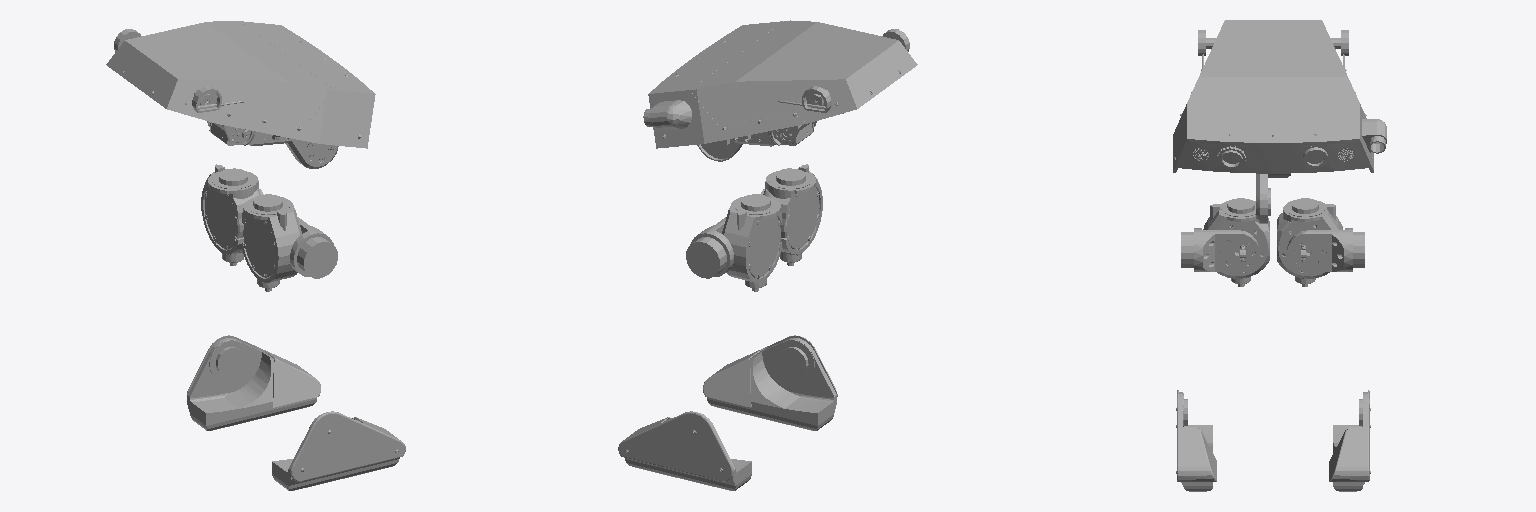
The robot description file, URDF, robot "BD-XURDFJointsFixed":
<?xml version="1.0" ?>
<!-- =================================================================================== -->
<!-- |    This document was autogenerated by xacro from [local-path]/Documents/Droids/BD-X/A1/dev/BD-XURDFJointsFixed_description/urdf/BD-XURDFJointsFixed.xacro | -->
<!-- |    EDITING THIS FILE BY HAND IS NOT RECOMMENDED                                 | -->
<!-- =================================================================================== -->
<robot xmlns:xacro="http://www.ros.org/wiki/xacro" name="BD-XURDFJointsFixed">
  <material name="silver">
    <color rgba="0.700 0.700 0.700 1"/>
  </material>

  <!-- Dummy root link without inertia -->
  <link name="base_link"/>
  <!-- Fixed joint connecting base_link to sw_bd0 -->
  <joint name="fixed_base" type="fixed">
    <parent link="base_link"/>
    <child link="body"/>
    <origin xyz="0 0 0" rpy="0 0 0"/>
  </joint>
  
  <link name="trunk">
<!--     <inertial>
      <origin xyz="0.0 0.0 0.0" rpy="0 0 0"/>
      <mass value="1e-09"/>
      <inertia ixx="0.0" iyy="0.0" izz="0.0" ixy="0.0" iyz="0.0" ixz="0.0"/>
    </inertial>
 -->  </link>
  <link name="body">
    <inertial>
      <origin xyz="0.0 0.0 0.0" rpy="0 0 0"/>
      <mass value="3.674"/> <!-- battery 1.15 -->
      <inertia ixx="0.099778" iyy="0.210394" izz="0.171149" ixy="-0.000272" iyz="-0.000084" ixz="0.009219"/>
    </inertial>
    <visual>
      <origin xyz="0 0 0" rpy="0 0 0"/>
      <geometry>
        <mesh filename="package://bdx_description/meshes/body.stl" scale="0.001 0.001 0.001"/>
      </geometry>
      <material name="silver"/>
    </visual>
    <collision>
      <origin xyz="0 0 0" rpy="0 0 0"/>
      <geometry>
        <mesh filename="package://bdx_description/meshes/body.stl" scale="0.001 0.001 0.001"/>
      </geometry>
    </collision>
  </link>
  <link name="left_foot_cuboid">
    <inertial>
      <origin xyz="-0.04078 -0.123984 0.307694" rpy="0 0 0"/>
      <mass value="0.173"/>
      <inertia ixx="0.000471" iyy="0.001782" izz="0.001597" ixy="0.000081" iyz="-0.000096" ixz="0.000007"/>
    </inertial>
    <visual>
      <origin xyz="-0.04078 -0.123984 0.307694" rpy="0 0 0"/>
      <geometry>
        <mesh filename="package://bdx_description/meshes/left_foot.stl" scale="0.001 0.001 0.001"/>
      </geometry>
      <material name="silver"/>
    </visual>
    <collision>
      <origin xyz="-0.04078 -0.123984 0.307694" rpy="0 0 0"/>
      <geometry>
        <mesh filename="package://bdx_description/meshes/left_foot.stl" scale="0.001 0.001 0.001"/>
      </geometry>
    </collision>
  </link>
  <link name="left_lower_leg">
     <inertial>
      <origin xyz="-0.030006 -0.133451 0.170932" rpy="0 0 0"/>
      <mass value="0.62"/>
      <inertia ixx="0.002002" iyy="0.002278" izz="0.000428" ixy="0.000019" iyz="-0.000132" ixz="0.000233"/>
    </inertial>
    <visual>
      <origin xyz="-0.030006 -0.133451 0.170932" rpy="0 0 0"/>
      <geometry>
        <mesh filename="package://bdx_description/meshes/left_lower_leg.stl" scale="0.001 0.001 0.001"/>
      </geometry>
      <material name="silver"/>
    </visual>
    <collision>
      <origin xyz="-0.030006 -0.133451 0.170932" rpy="0 0 0"/>
      <geometry>
        <mesh filename="package://bdx_description/meshes/left_lower_leg.stl" scale="0.001 0.001 0.001"/>
      </geometry>
    </collision>
  </link>
  <link name="left_upper_leg">
    <inertial>
      <origin xyz="-0.030679 -0.133451 0.052423" rpy="0 0 0"/>
      <mass value="2.089"/>
      <inertia ixx="0.005273" iyy="0.006006" izz="0.001477" ixy="-0.000003" iyz="0.000020" ixz="-0.000084"/>
    </inertial>
    <visual>
      <origin xyz="-0.030679 -0.133451 0.052423" rpy="0 0 0"/>
      <geometry>
        <mesh filename="package://bdx_description/meshes/left_upper_leg.stl" scale="0.001 0.001 0.001"/>
      </geometry>
      <material name="silver"/>
    </visual>
    <collision>
      <origin xyz="-0.030679 -0.133451 0.052423" rpy="0 0 0"/>
      <geometry>
        <mesh filename="package://bdx_description/meshes/left_upper_leg.stl" scale="0.001 0.001 0.001"/>
      </geometry>
    </collision>
  </link>
  <link name="left_hip">
    <inertial>
      <origin xyz="-0.01127 -0.051563 0.052423" rpy="0 0 0"/>
      <mass value="0.049"/>
      <inertia ixx="0.000243" iyy="0.000075" izz="0.000228" ixy="-0.000007" iyz="0.000000" ixz="-0.000000"/>
    </inertial>
    <visual>
      <origin xyz="-0.01127 -0.051563 0.052423" rpy="0 0 0"/>
      <geometry>
        <mesh filename="package://bdx_description/meshes/left_hip.stl" scale="0.001 0.001 0.001"/>
      </geometry>
      <material name="silver"/>
    </visual>
    <collision>
      <origin xyz="-0.01127 -0.051563 0.052423" rpy="0 0 0"/>
      <geometry>
        <mesh filename="package://bdx_description/meshes/left_hip.stl" scale="0.001 0.001 0.001"/>
      </geometry>
    </collision>
  </link>
  <link name="left_hip_rotation">
    <inertial>
      <origin xyz="0.0 -0.04661 -0.0072" rpy="0 0 0"/>
      <mass value="0.689"/>
      <inertia ixx="0.000782" iyy="0.000537" izz="0.000415" ixy="0.000000" iyz="0.000017" ixz="0.000013"/>
    </inertial>
    <visual>
      <origin xyz="-0.0 -0.04661 -0.0072" rpy="0 0 0"/>
      <geometry>
        <mesh filename="package://bdx_description/meshes/left_hip_rotation.stl" scale="0.001 0.001 0.001"/>
      </geometry>
      <material name="silver"/>
    </visual>
    <collision>
      <origin xyz="-0.0 -0.04661 -0.0072" rpy="0 0 0"/>
      <geometry>
        <mesh filename="package://bdx_description/meshes/left_hip_rotation.stl" scale="0.001 0.001 0.001"/>
      </geometry>
    </collision>
  </link>
  <link name="right_foot_pad">
    <inertial>
      <origin xyz="0.017801 0.108832 0.36953" rpy="0 0 0"/>
      <mass value="0.043"/>
      <inertia ixx="0.000014" iyy="0.000234" izz="0.000243" ixy="-0.000000" iyz="-0.000000" ixz="0.000001"/>
    </inertial>
    <visual>
      <origin xyz="0.017801 0.108832 0.36953" rpy="0 0 0"/>
      <geometry>
        <mesh filename="package://bdx_description/meshes/right_foot_pad.stl" scale="0.001 0.001 0.001"/>
      </geometry>
      <material name="silver"/>
    </visual>
    <collision>
      <origin xyz="0.017801 0.108832 0.36953" rpy="0 0 0"/>
      <geometry>
        <mesh filename="package://bdx_description/meshes/right_foot_pad.stl" scale="0.001 0.001 0.001"/>
      </geometry>
    </collision>
  </link>
  <link name="right_foot_cuboid">
    <inertial>
      <origin xyz="-0.040772 0.123858 0.307694" rpy="0 0 0"/>
      <mass value="0.173"/>
      <inertia ixx="0.000471" iyy="0.001782" izz="0.001597" ixy="-0.000081" iyz="0.000096" ixz="0.000007"/>
    </inertial>
    <visual>
      <origin xyz="-0.040772 0.123858 0.307694" rpy="0 0 0"/>
      <geometry>
        <mesh filename="package://bdx_description/meshes/right_foot.stl" scale="0.001 0.001 0.001"/>
      </geometry>
      <material name="silver"/>
    </visual>
    <collision>
      <origin xyz="-0.040772 0.123858 0.307694" rpy="0 0 0"/>
      <geometry>
        <mesh filename="package://bdx_description/meshes/right_foot.stl" scale="0.001 0.001 0.001"/>
      </geometry>
    </collision>
  </link>
  <link name="right_lower_leg">
    <inertial>
      <origin xyz="-0.029997 0.133325 0.170933" rpy="0 0 0"/>
      <mass value="0.62"/>
      <inertia ixx="0.002002" iyy="0.002278" izz="0.000428" ixy="-0.000019" iyz="0.000132" ixz="0.000233"/>
    </inertial>
    <visual>
      <origin xyz="-0.029997 0.133325 0.170933" rpy="0 0 0"/>
      <geometry>
        <mesh filename="package://bdx_description/meshes/right_lower_leg.stl" scale="0.001 0.001 0.001"/>
      </geometry>
      <material name="silver"/>
    </visual>
    <collision>
      <origin xyz="-0.029997 0.133325 0.170933" rpy="0 0 0"/>
      <geometry>
        <mesh filename="package://bdx_description/meshes/right_lower_leg.stl" scale="0.001 0.001 0.001"/>
      </geometry>
    </collision>
  </link>
  <link name="right_upper_leg">
    <inertial>
      <origin xyz="-0.030671 0.133325 0.052423" rpy="0 0 0"/>
      <mass value="2.089"/>
      <inertia ixx="0.005273" iyy="0.006006" izz="0.001477" ixy="0.000003" iyz="-0.000020" ixz="-0.000084"/>
    </inertial>
    <visual>
      <origin xyz="-0.030671 0.133325 0.052423" rpy="0 0 0"/>
      <geometry>
        <mesh filename="package://bdx_description/meshes/right_upper_leg.stl" scale="0.001 0.001 0.001"/>
      </geometry>
      <material name="silver"/>
    </visual>
    <collision>
      <origin xyz="-0.030671 0.133325 0.052423" rpy="0 0 0"/>
      <geometry>
        <mesh filename="package://bdx_description/meshes/right_upper_leg.stl" scale="0.001 0.001 0.001"/>
      </geometry>
    </collision>
  </link>
  <link name="right_hip_rotation">
    <inertial>
      <origin xyz="9e-06 0.046484 -0.0072" rpy="0 0 0"/>
      <mass value="0.689"/>
      <inertia ixx="0.000780" iyy="0.000536" izz="0.000415" ixy="-0.000000" iyz="-0.000016" ixz="0.000014"/>
    </inertial>
    <visual>
      <origin xyz="9e-06 0.046484 -0.0072" rpy="0 0 0"/>
      <geometry>
        <mesh filename="package://bdx_description/meshes/right_hip_rotation.stl" scale="0.001 0.001 0.001"/>
      </geometry>
      <material name="silver"/>
    </visual>
    <collision>
      <origin xyz="9e-06 0.046484 -0.0072" rpy="0 0 0"/>
      <geometry>
        <mesh filename="package://bdx_description/meshes/right_hip_rotation.stl" scale="0.001 0.001 0.001"/>
      </geometry>
    </collision>
  </link>
  <link name="head">
     <inertial>
      <origin xyz="-0.011817 -0.000399 -0.119918" rpy="0 0 0"/>
      <mass value="1.331"/>
      <inertia ixx="0.049221" iyy="0.054215" izz="0.096919" ixy="-0.001720" iyz="0.000013" ixz="0.004530"/>
    </inertial>
     <visual>
      <origin xyz="-0.011817 -0.000399 -0.119918" rpy="0 0 0"/>
      <geometry>
        <mesh filename="package://bdx_description/meshes/head.stl" scale="0.001 0.001 0.001"/>
      </geometry>
      <material name="silver"/>
    </visual>
    <collision>
      <origin xyz="-0.011817 -0.000399 -0.119918" rpy="0 0 0"/>
      <geometry>
        <mesh filename="package://bdx_description/meshes/head.stl" scale="0.001 0.001 0.001"/>
      </geometry>
    </collision>
  </link>
  <link name="neck_yaw">
    <inertial>
      <origin xyz="0.042623 -0.000409 -0.113535" rpy="0 0 0"/>
      <mass value="0.215"/>
      <inertia ixx="0.000140" iyy="0.000182" izz="0.000233" ixy="0.000000" iyz="-0.000000" ixz="0.000018"/>
    </inertial>
    <visual>
      <origin xyz="0.042623 -0.000409 -0.113535" rpy="0 0 0"/>
      <geometry>
        <mesh filename="package://bdx_description/meshes/neck_yaw.stl" scale="0.001 0.001 0.001"/>
      </geometry>
      <material name="silver"/>
    </visual>
    <collision>
      <origin xyz="0.042623 -0.000409 -0.113535" rpy="0 0 0"/>
      <geometry>
        <mesh filename="package://bdx_description/meshes/neck_yaw.stl" scale="0.001 0.001 0.001"/>
      </geometry>
    </collision>
  </link>
  <link name="neck_pitch">
    <inertial>
      <origin xyz="0.039802 -0.000516 -0.081652" rpy="0 0 0"/>
      <mass value="0.0234"/>
      <inertia ixx="0.000038" iyy="0.000019" izz="0.000040" ixy="-0.000000" iyz="-0.000000" ixz="0.000000"/>
    </inertial>
    <visual>
      <origin xyz="0.039802 -0.000516 -0.081652" rpy="0 0 0"/>
      <geometry>
        <mesh filename="package://bdx_description/meshes/neck_pitch.stl" scale="0.001 0.001 0.001"/>
      </geometry>
      <material name="silver"/>
    </visual>
    <collision>
      <origin xyz="0.039802 -0.000516 -0.081652" rpy="0 0 0"/>
      <geometry>
        <mesh filename="package://bdx_description/meshes/neck_pitch.stl" scale="0.001 0.001 0.001"/>
      </geometry>
    </collision>
  </link>
  <link name="neck_extension">
    <inertial>
      <origin xyz="-0.092558 0.00375 -0.053208" rpy="0 0 0"/>
      <mass value="0.251"/>
      <inertia ixx="0.000205" iyy="0.001004" izz="0.000984" ixy="0.000114" iyz="-0.000031" ixz="0.000190"/>
    </inertial>
    <visual>
      <origin xyz="-0.092558 0.00375 -0.053208" rpy="0 0 0"/>
      <geometry>
        <mesh filename="package://bdx_description/meshes/neck_extension.stl" scale="0.001 0.001 0.001"/>
      </geometry>
      <material name="silver"/>
    </visual>
    <collision>
      <origin xyz="-0.092558 0.00375 -0.053208" rpy="0 0 0"/>
      <geometry>
        <mesh filename="package://bdx_description/meshes/neck_extension.stl" scale="0.001 0.001 0.001"/>
      </geometry>
    </collision>
  </link>
  <link name="left_antenna">
    <inertial>
      <origin xyz="0.14933 -0.078948 -0.165789" rpy="0 0 0"/>
      <mass value="0.01268"/>
      <inertia ixx="0.000002" iyy="0.000015" izz="0.000015" ixy="-0.000000" iyz="-0.000000" ixz="0.000000"/>
    </inertial>
    <visual>
      <origin xyz="0.14933 -0.078948 -0.165789" rpy="0 0 0"/>
      <geometry>
        <mesh filename="package://bdx_description/meshes/left_antenna.stl" scale="0.001 0.001 0.001"/>
      </geometry>
      <material name="silver"/>
    </visual>
    <collision>
      <origin xyz="0.14933 -0.078948 -0.165789" rpy="0 0 0"/>
      <geometry>
        <mesh filename="package://bdx_description/meshes/left_antenna.stl" scale="0.001 0.001 0.001"/>
      </geometry>
    </collision>
  </link>
  <link name="right_antenna">
    <inertial>
      <origin xyz="0.14933 0.078151 -0.165789" rpy="0 0 0"/>
      <mass value="0.01268"/>
      <inertia ixx="0.000002" iyy="0.000016" izz="0.000015" ixy="0.000000" iyz="0.000000" ixz="0.000000"/>
    </inertial>
    <visual>
      <origin xyz="0.14933 0.078151 -0.165789" rpy="0 0 0"/>
      <geometry>
        <mesh filename="package://bdx_description/meshes/right_antenna.stl" scale="0.001 0.001 0.001"/>
      </geometry>
      <material name="silver"/>
    </visual>
    <collision>
      <origin xyz="0.14933 0.078151 -0.165789" rpy="0 0 0"/>
      <geometry>
        <mesh filename="package://bdx_description/meshes/right_antenna.stl" scale="0.001 0.001 0.001"/>
      </geometry>
    </collision>
  </link>
  <link name="left_foot_pad">
    <inertial>
      <origin xyz="0.017792 -0.108959 0.36953" rpy="0 0 0"/>
      <mass value="0.043"/>
      <inertia ixx="0.000014" iyy="0.000234" izz="0.000243" ixy="0.000000" iyz="0.000000" ixz="0.000001"/>
    </inertial>
    <visual>
      <origin xyz="0.017792 -0.108959 0.36953" rpy="0 0 0"/>
      <geometry>
        <mesh filename="package://bdx_description/meshes/left_foot_pad.stl" scale="0.001 0.001 0.001"/>
      </geometry>
      <material name="silver"/>
    </visual>
    <collision>
      <origin xyz="0.017792 -0.108959 0.36953" rpy="0 0 0"/>
      <geometry>
        <mesh filename="package://bdx_description/meshes/left_foot_pad.stl" scale="0.001 0.001 0.001"/>
      </geometry>
    </collision>
  </link>
  <link name="right_hip">
    <inertial>
      <origin xyz="-0.011261 0.051436 0.052423" rpy="0 0 0"/>
      <mass value="0.049"/>
      <inertia ixx="0.000244" iyy="0.000075" izz="0.000229" ixy="0.000007" iyz="0.000000" ixz="-0.000000"/>
    </inertial>
    <visual>
      <origin xyz="-0.011261 0.051436 0.052423" rpy="0 0 0"/>
      <geometry>
        <mesh filename="package://bdx_description/meshes/right_hip.stl" scale="0.001 0.001 0.001"/>
      </geometry>
      <material name="silver"/>
    </visual>
    <collision>
      <origin xyz="-0.011261 0.051436 0.052423" rpy="0 0 0"/>
      <geometry>
        <mesh filename="package://bdx_description/meshes/right_hip.stl" scale="0.001 0.001 0.001"/>
      </geometry>
    </collision>
  </link>
  <joint name="left_hip_yaw" type="revolute">
    <origin xyz="0.0 0.04661 0.0072" rpy="0 0 0"/>
    <parent link="body"/>
    <child link="left_hip_rotation"/>
    <axis xyz="0.0 0.0 -1.0"/>
    <limit upper="0.29" lower="-0.5" effort="100.0" velocity="100.0"/>
  </joint>
  <joint name="left_hip_roll" type="revolute">
    <origin xyz="0.01127 0.004953 -0.059623" rpy="0 0 0"/>
    <parent link="left_hip_rotation"/>
    <child link="left_hip"/>
    <axis xyz="1.0 0.0 0.0"/>
    <limit upper="0.436332" lower="-0.628319" effort="100.0" velocity="100.0"/>
  </joint>
  <joint name="left_hip_pitch" type="revolute">
    <origin xyz="0.019409 0.081888 0.0" rpy="0 0 0"/>
    <parent link="left_hip"/>
    <child link="left_upper_leg"/>
    <axis xyz="-0.0 1.0 -0.0"/>
    <limit upper="2.05949" lower="-2.05949" effort="100.0" velocity="100.0"/>
  </joint>
  <joint name="left_knee" type="revolute">
    <origin xyz="-0.000673 0.0 -0.118509" rpy="0 0 0"/>
    <parent link="left_upper_leg"/>
    <child link="left_lower_leg"/>
    <axis xyz="0.0 1.0 0.0"/>
    <limit upper="0" lower="-2.16" effort="100.0" velocity="100.0"/>
  </joint>
  <joint name="left_ankle" type="revolute">
    <origin xyz="0.010774 -0.009467 -0.136762" rpy="0 0 0"/>
    <parent link="left_lower_leg"/>
    <child link="left_foot_cuboid"/>
    <axis xyz="0.0 1.0 0.0"/>
    <limit upper="1.48" lower="-1.23" effort="100.0" velocity="100.0"/>
  </joint>
  <joint name="left_foot_pad" type="fixed">
    <origin xyz="-0.058572 -0.015025 -0.061836" rpy="0 0 0"/>
    <parent link="left_foot_cuboid"/>
    <child link="left_foot_pad"/>
    <axis xyz="0 0 0"/>
  </joint>
  <link name="left_foot">
    <inertial>
      <origin xyz="0 0 0" rpy="0 0 0" />
      <mass value="1e-9" />
      <inertia ixx="0" ixy="0" ixz="0" iyy="0" iyz="0" izz="0" />
    </inertial>
  </link>
  <joint name="left_foot_frame" type="fixed">
      <origin xyz="0.065 0.0 -0.0135" rpy="0 0 0" />
      <parent link="left_foot_pad" />
      <child link="left_foot" />
      <axis xyz="0 0 0"/>
  </joint>
  <joint name="neck_pitch" type="revolute">
    <origin xyz="0.092558 -0.00375 0.053208" rpy="0 0.17 0"/>
    <parent link="body"/>
    <child link="neck_extension"/>
    <axis xyz="0.0 1.0 0.0"/>
    <limit upper="1.32645" lower="0" effort="100.0" velocity="100.0"/>
  </joint>
  <joint name="head_pitch" type="revolute">
    <origin xyz="-0.13236 0.004266 0.028444" rpy="0 0 0"/>
    <parent link="neck_extension"/>
    <child link="neck_pitch"/>
    <axis xyz="0.0 -1.0 -0.0"/>
    <limit upper="2.1293" lower="0" effort="100.0" velocity="100.0"/>
  </joint>
  <joint name="head_yaw" type="revolute">
    <origin xyz="-0.002821 -0.000107 0.031883" rpy="0 0 0"/>
    <parent link="neck_pitch"/>
    <child link="neck_yaw"/>
    <axis xyz="0.0 0.0 -1.0"/>
    <limit upper="1.5708" lower="-1.5708" effort="23.7" velocity="30.0"/>
  </joint>
  <joint name="head_roll" type="revolute">
    <origin xyz="0.05444 -1e-05 0.006383" rpy="0 0 0"/>
    <parent link="neck_yaw"/>
    <child link="head"/>
    <axis xyz="-1.0 0.0 0.0"/>
    <limit upper="0.46" lower="-0.43" effort="23.7" velocity="30.0"/>
  </joint>
  <joint name="left_antenna" type="revolute">
    <origin xyz="-0.161147 0.078549 0.045871" rpy="0 0 0"/>
    <parent link="head"/>
    <child link="left_antenna"/>
    <axis xyz="0.0 -1.0 0.0"/>
    <limit upper="3.14159" lower="0" effort="100.0" velocity="100.0"/>
  </joint>
  <joint name="right_antenna" type="revolute">
    <origin xyz="-0.161147 -0.07855 0.045871" rpy="0 0 0"/>
    <parent link="head"/>
    <child link="right_antenna"/>
    <axis xyz="0.0 -1.0 -0.0"/>
    <limit upper="3.14159" lower="0" effort="100.0" velocity="100.0"/>
  </joint>
  <joint name="right_hip_yaw" type="revolute">
    <origin xyz="-9e-06 -0.046484 0.0072" rpy="0 0 0"/>
    <parent link="body"/>
    <child link="right_hip_rotation"/>
    <axis xyz="0.0 0.0 -1.0"/>
    <limit upper="0.5" lower="-0.29" effort="100.0" velocity="100.0"/>
  </joint>
  <joint name="right_hip_roll" type="revolute">
    <origin xyz="0.01127 -0.004952 -0.059623" rpy="0 0 0"/>
    <parent link="right_hip_rotation"/>
    <child link="right_hip"/>
    <axis xyz="1.0 -0.0 0.0"/>
    <limit upper="0.628319" lower="-0.436332" effort="100.0" velocity="100.0"/>
  </joint>
  <joint name="right_hip_pitch" type="revolute">
    <origin xyz="0.01941 -0.081889 0.0" rpy="0 0 0"/>
    <parent link="right_hip"/>
    <child link="right_upper_leg"/>
    <axis xyz="0.0 -1.0 -0.0"/>
    <limit upper="2.05949" lower="-2.05949" effort="100.0" velocity="100.0"/>
  </joint>
  <joint name="right_knee" type="revolute">
    <origin xyz="-0.000674 0.0 -0.11851" rpy="0 0 0"/>
    <parent link="right_upper_leg"/>
    <child link="right_lower_leg"/>
    <axis xyz="-0.0 1.0 0.0"/>
    <limit upper="0" lower="-2.16" effort="100.0" velocity="100.0"/>
  </joint>
  <joint name="right_ankle" type="revolute">
    <origin xyz="0.010775 0.009467 -0.136761" rpy="0 0 0"/>
    <parent link="right_lower_leg"/>
    <child link="right_foot_cuboid"/>
    <axis xyz="0.0 -1.0 0.0"/>
    <limit upper="1.23" lower="-1.48" effort="100.0" velocity="100.0"/>
  </joint>
  <joint name="right_foot_pad" type="fixed">
    <origin xyz="-0.058573 0.015026 -0.061836" rpy="0 0 0"/>
    <parent link="right_foot_cuboid"/>
    <child link="right_foot_pad"/>
    <axis xyz="0 0 0"/>
  </joint>
  <link name="right_foot">
    <inertial>
      <origin xyz="0 0 0" rpy="0 0 0" />
      <mass value="1e-9" />
      <inertia ixx="0" ixy="0" ixz="0" iyy="0" iyz="0" izz="0" />
    </inertial>
  </link>
  <joint name="right_foot_frame" type="fixed">
      <origin xyz="0.065 0.0 -0.0135" rpy="0 0 0" />
      <parent link="right_foot_pad" />
      <child link="right_foot" />
      <axis xyz="0 0 0"/>
  </joint>
  <joint name="trunk_frame" type="fixed">
    <origin xyz="0.0 0.0 0.0" rpy="0 0 0"/>
    <parent link="body"/>
    <child link="trunk"/>
    <axis xyz="0.0 0.0 0.0"/>
  </joint>
</robot>

--- What the picture shows (computed from the rendered views, not written in the file) ---
Views: 3 orthographic renders of the robot side by side, from view 1: azimuth 30°, elevation 25°; view 2: azimuth 150°, elevation 25°; view 3: azimuth 270°, elevation 25°.
Robot: BD-XURDFJointsFixed — 23 links, 22 joints (16 revolute, 6 fixed); root link base_link; default pose: every joint at zero.
Links seen in each view (by area): view 1: head, left_foot_cuboid, right_foot_cuboid, right_hip_rotation, left_hip_rotation, right_hip, neck_extension, right_foot_pad, left_foot_pad, right_antenna; view 2: head, right_foot_cuboid, left_foot_cuboid, left_hip_rotation, right_hip_rotation, left_hip, neck_extension, right_foot_pad, left_foot_pad, left_antenna; view 3: head, right_hip, left_hip, left_foot_cuboid, right_foot_cuboid, left_hip_rotation, right_hip_rotation, neck_extension.
Link boxes in pixels (<box>): head: <box>106,21,375,148</box>; left_foot_cuboid: <box>187,335,320,425</box>; right_foot_cuboid: <box>272,411,405,485</box>; right_hip_rotation: <box>242,194,301,291</box>; left_hip_rotation: <box>201,164,260,265</box>; right_hip: <box>290,217,337,278</box>; neck_extension: <box>209,122,338,168</box>; right_foot_pad: <box>272,459,398,490</box>; left_foot_pad: <box>190,399,316,430</box>; right_antenna: <box>192,86,245,112</box>; head: <box>643,20,917,148</box>; right_foot_cuboid: <box>703,335,837,425</box>; left_foot_cuboid: <box>618,411,751,485</box>; left_hip_rotation: <box>722,194,781,291</box>; right_hip_rotation: <box>763,164,822,265</box>; left_hip: <box>686,217,733,278</box>; neck_extension: <box>697,122,813,161</box>; right_foot_pad: <box>707,399,833,430</box>; left_foot_pad: <box>625,459,751,490</box>; left_antenna: <box>778,86,831,112</box>; head: <box>1173,20,1386,173</box>; right_hip: <box>1181,228,1258,271</box>; left_hip: <box>1287,228,1364,271</box>; left_foot_cuboid: <box>1329,390,1370,485</box>; right_foot_cuboid: <box>1176,390,1216,485</box>; left_hip_rotation: <box>1277,198,1342,286</box>; right_hip_rotation: <box>1203,198,1269,286</box>; neck_extension: <box>1256,174,1290,223</box>.
Bounding box of the posed robot: 0.3336 × 0.312 × 0.618 m (x, y, z).
14 mesh visuals loaded from 19 distinct referenced files (14 binary STL); not drawn: 5 (reference not matched to a file when rendering).